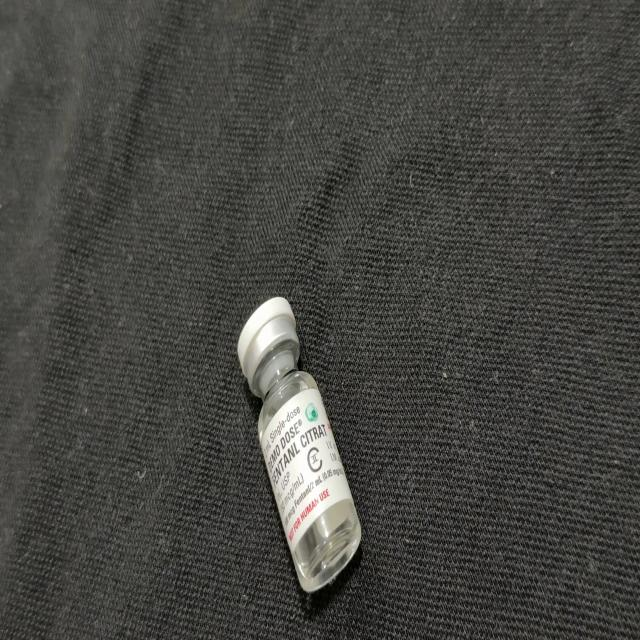fentanl_citrat: (239, 302, 359, 590)
